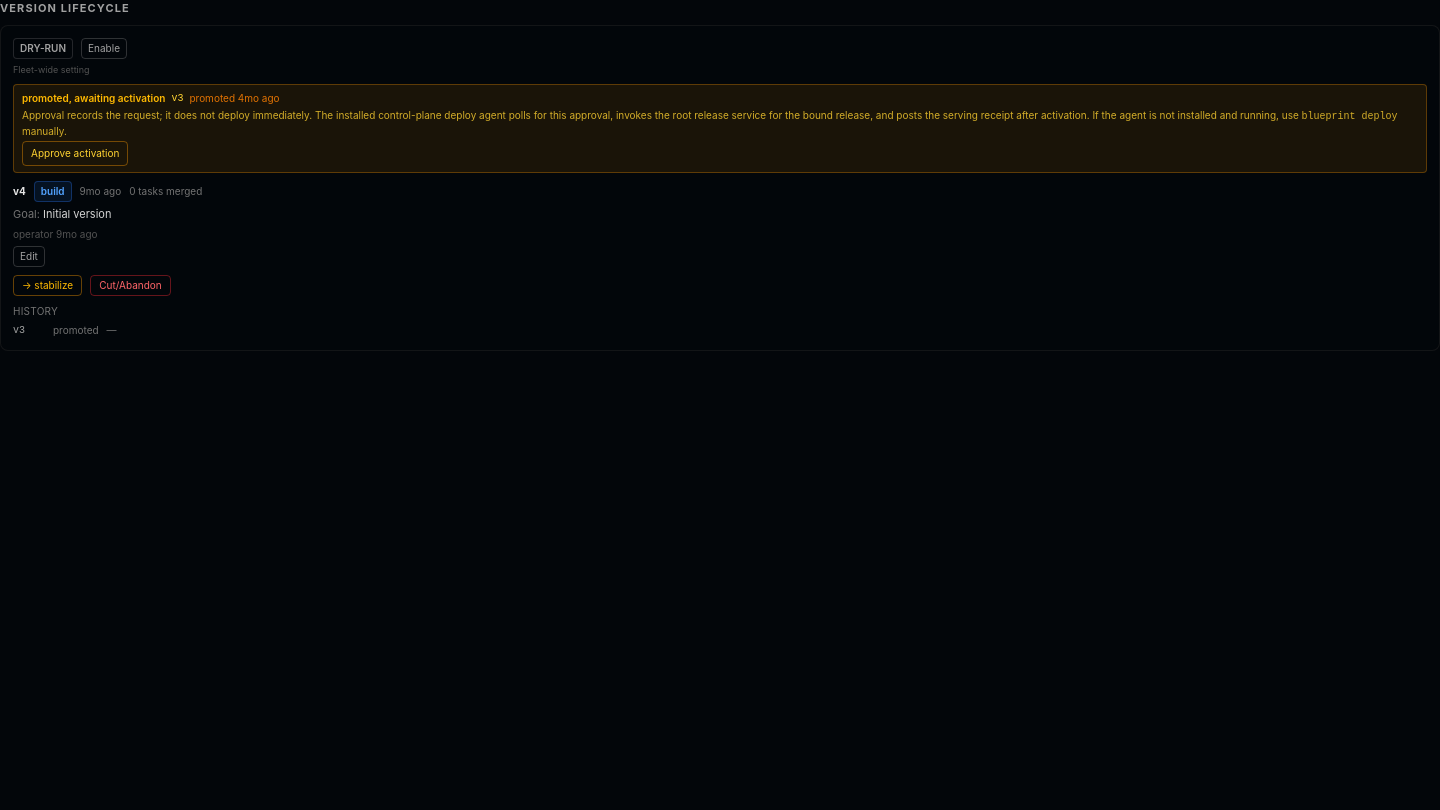
Test case: VersionLifecyclePanel › promoted awaiting activation callout › surfaces an approval rejection and leaves the action retryable
What coordinates should you click on to do the following:
click the button with test id "approve-activation"
I would click on:
 (75, 154)
Its box is [22,141,128,166].
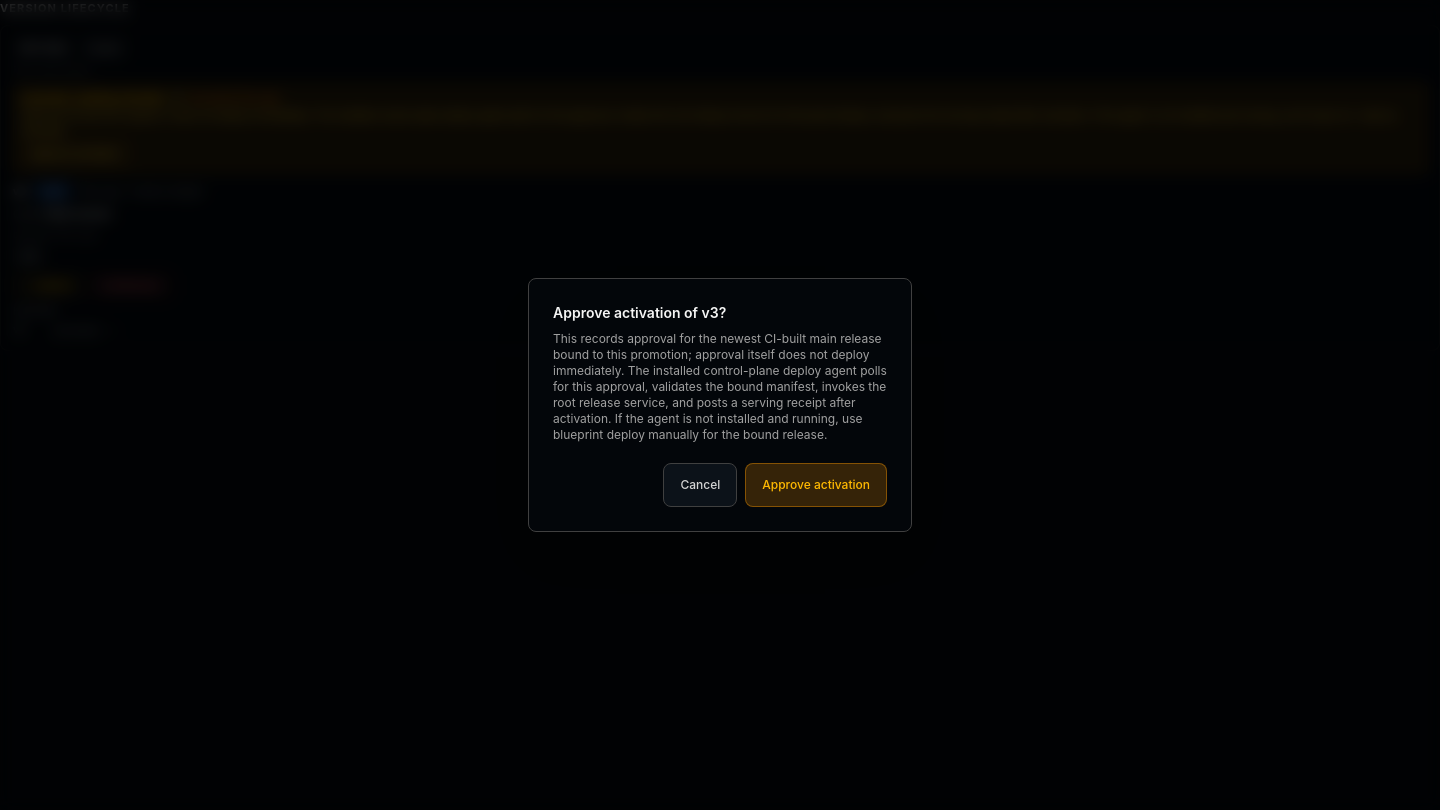
What coordinates should you click on to do the following:
click the button with test id "confirm-dialog-confirm"
I would click on:
 (816, 485)
Its box is [745,463,887,507].
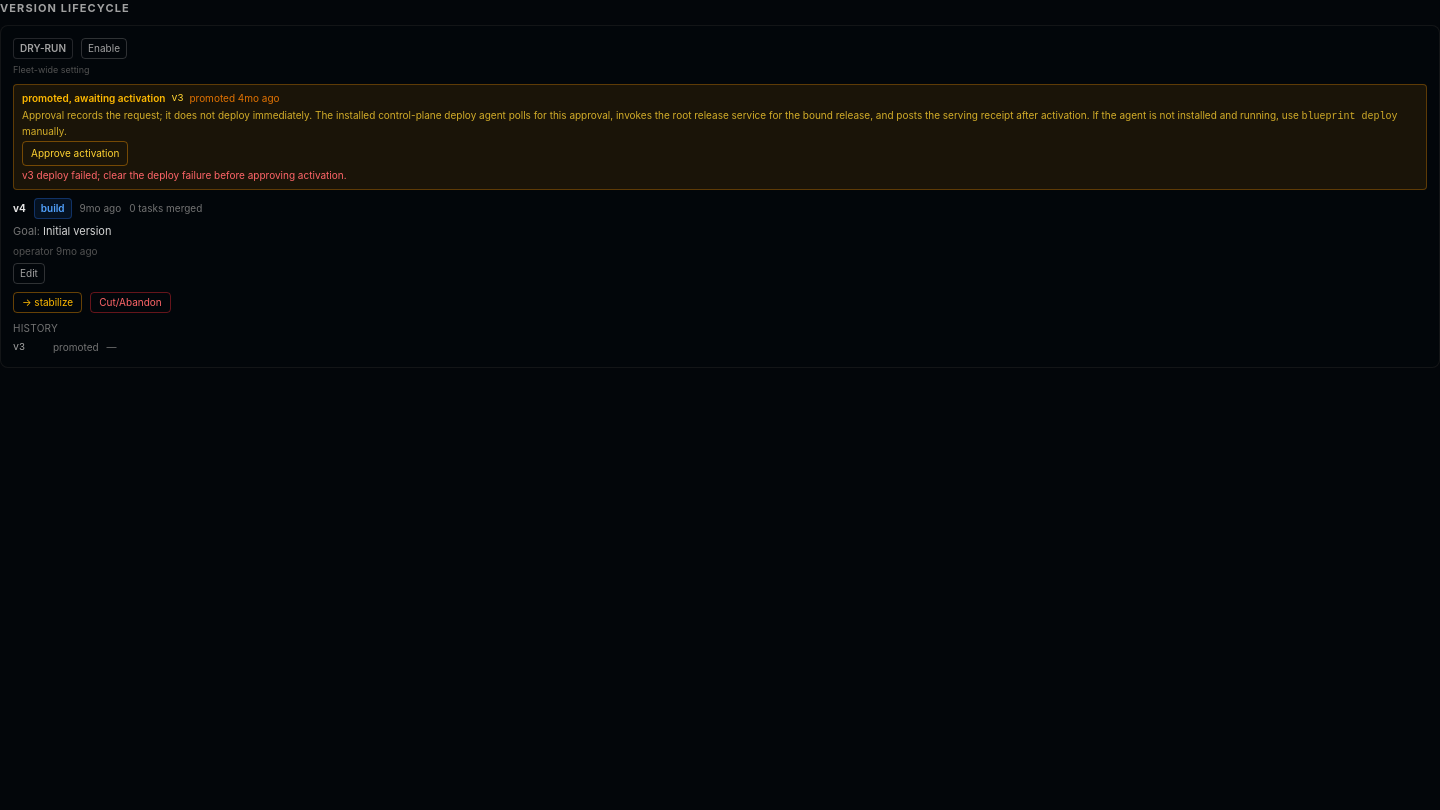
Expected: the button with test id "approve-activation" is enabled, [22,141,128,166]
Result: the message with test id "approve-activation-error" shows "deploy failed; clear the deploy failure before approving activation." at [22,169,346,181]
